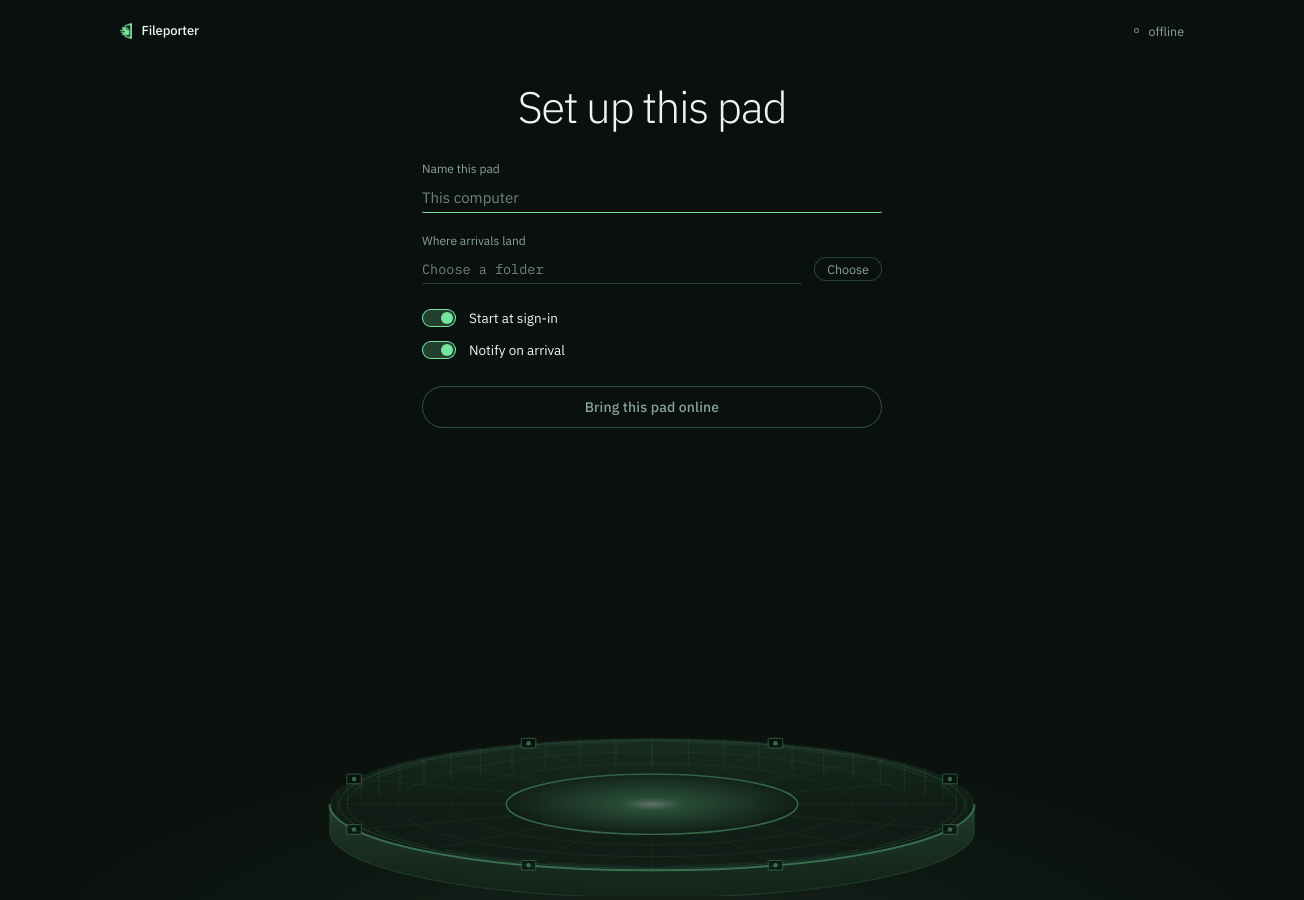
validates first run, chooses a folder, and completes setup
expect the heading "Set up this pad" is shown: met, box [518,83,786,130]
expect the button "Bring this pad online" is disabled: met, box [422,386,882,428]
Step 1. Type "Studio Mac" into the field labelled "Name this pad" → (652, 198), box [422,182,882,212]
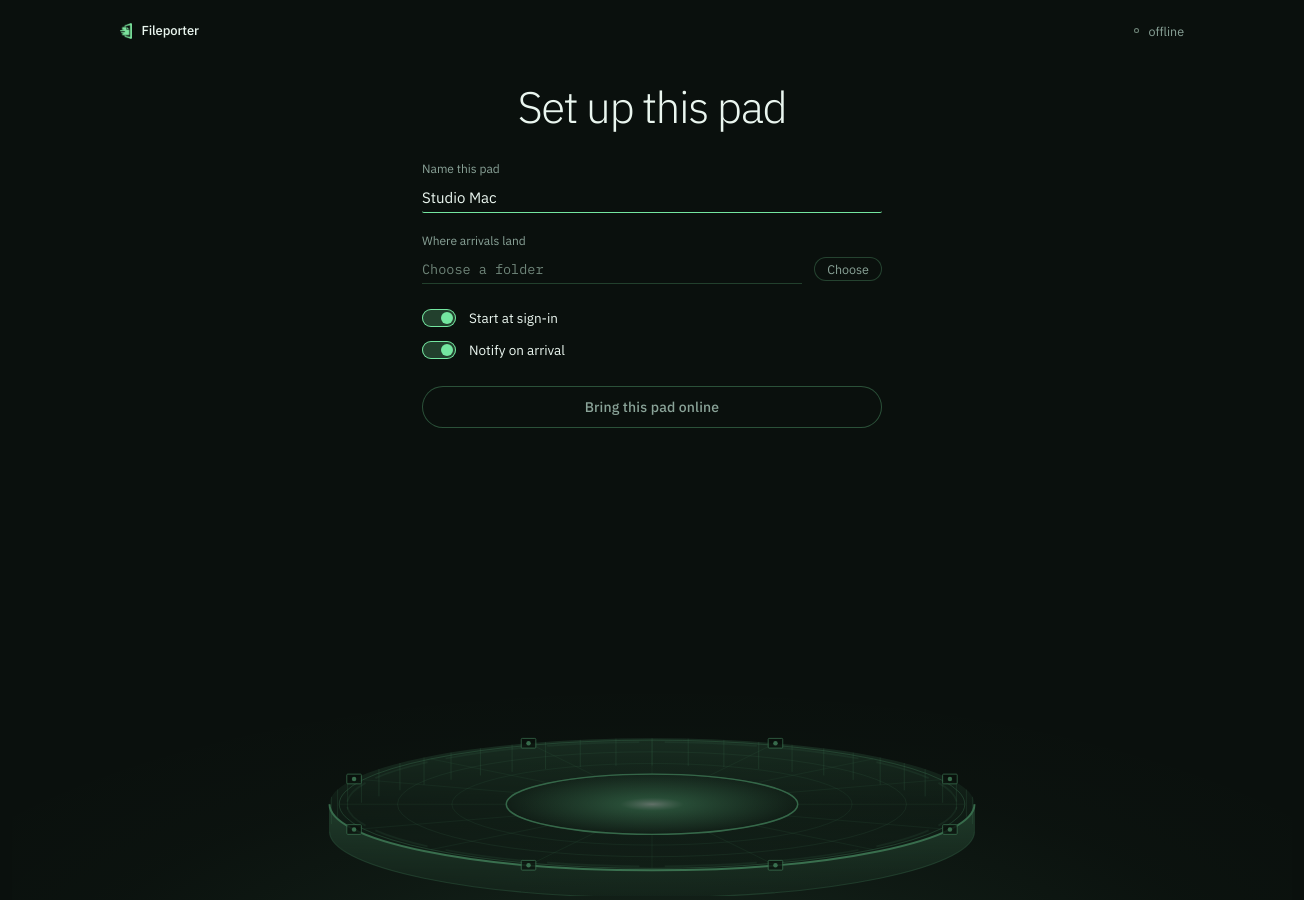
Step 2. Click the button "Choose" → (848, 268), box [814,256,882,280]
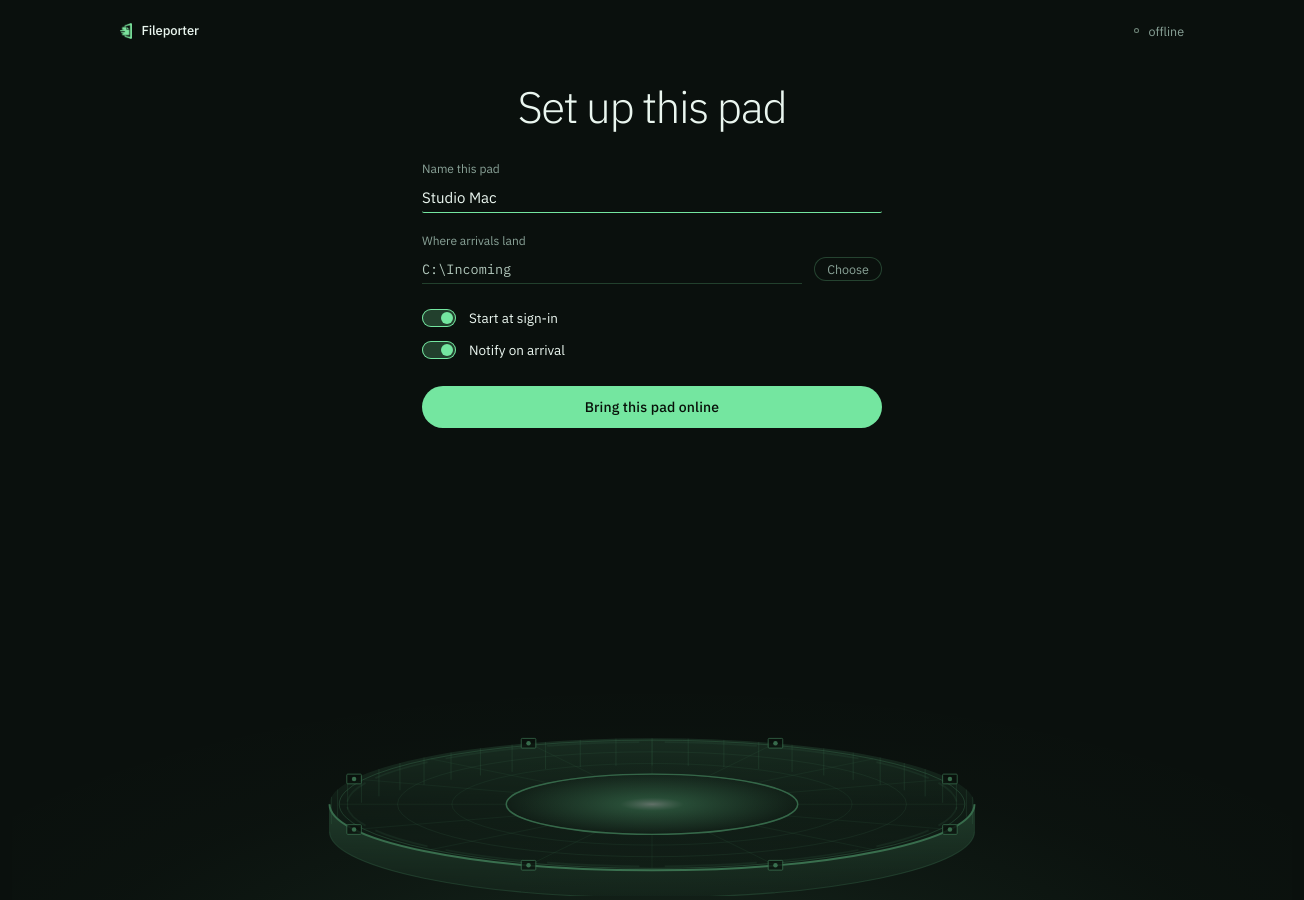
expect the field showing "C:\\Incoming" is shown: met, box [422,254,802,284]
Step 3. Click the button "Bring this pad online" → (652, 406), box [422,386,882,428]
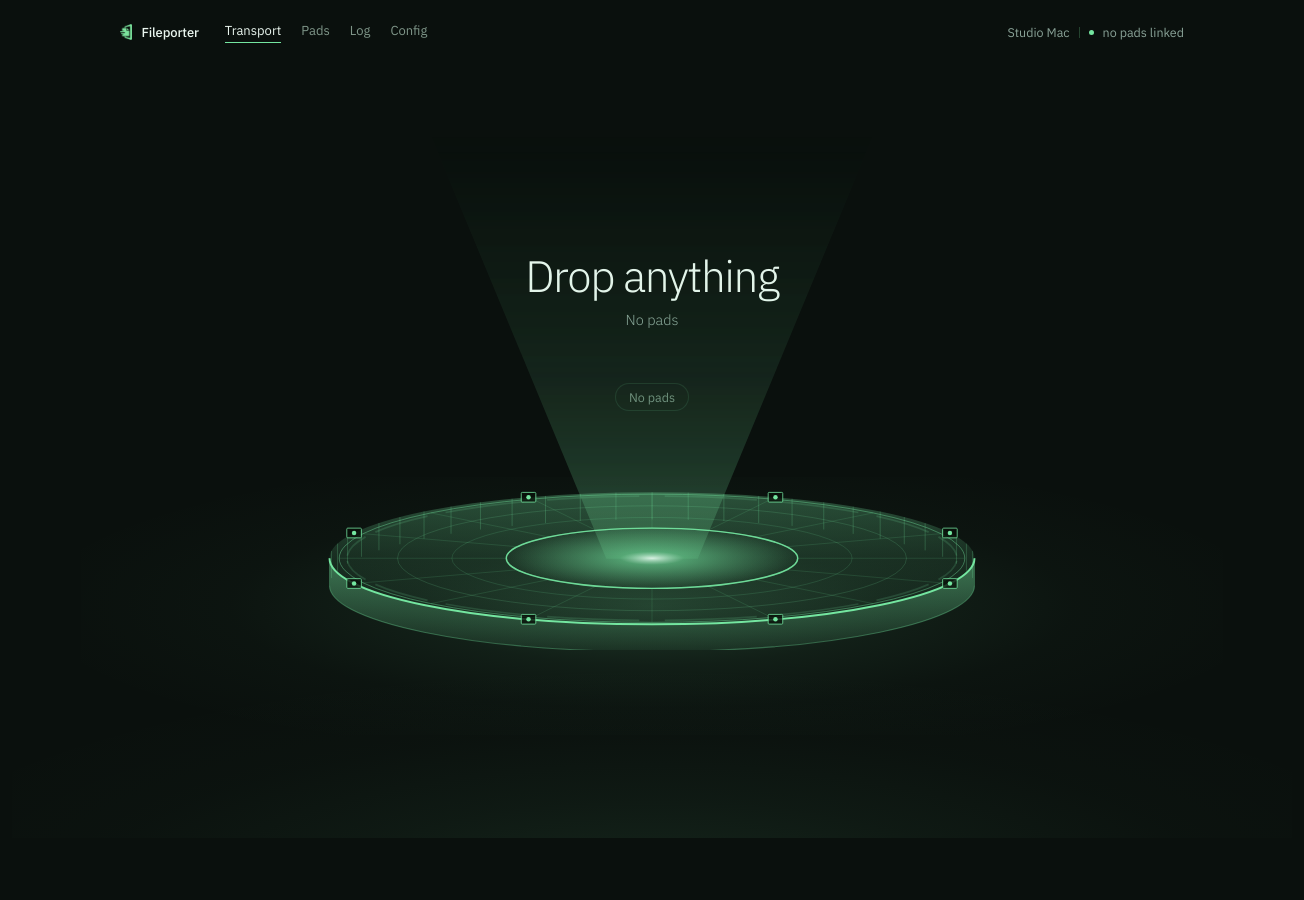
expect the text "Studio Mac" is shown: met, box [1007,24,1070,40]
